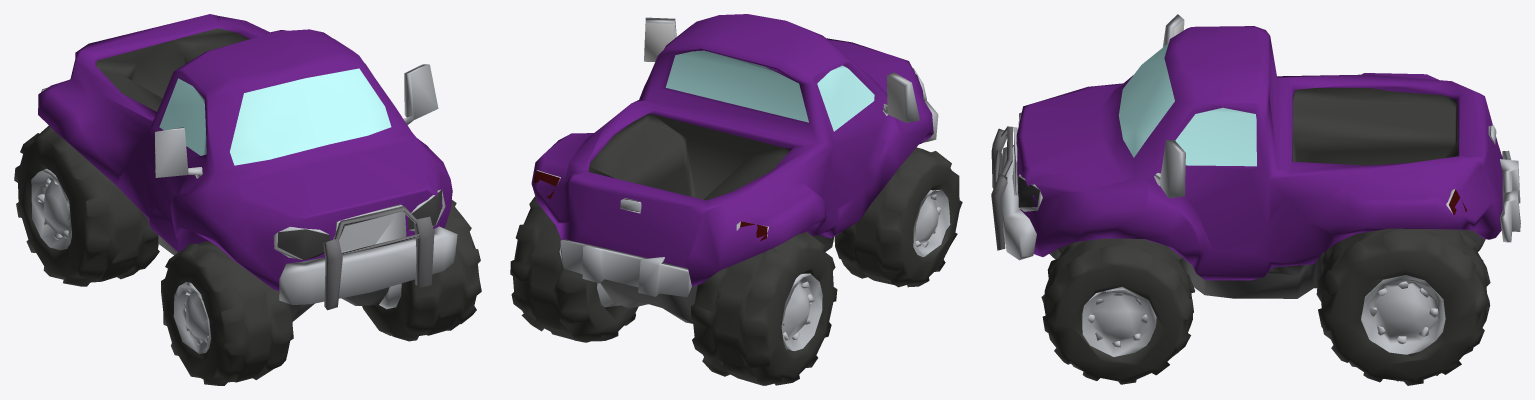
Rendered from pick_up_LOD01.fbx.
The picture shows the model from 3 angles, left to right: view 1: azimuth 30°, elevation 25°; view 2: azimuth 150°, elevation 25°; view 3: azimuth 270°, elevation 25°; orthographic projection. The views are drawn at different scales.
Parts seen in each view (by area): view 1: pick-up; view 2: pick-up; view 3: pick-up.
Boxes of the visible parts, x1=… form: pick-up: x1=14, y1=14, x2=481, y2=385; pick-up: x1=510, y1=14, x2=962, y2=385; pick-up: x1=991, y1=14, x2=1520, y2=385.
Size of the model in its own units: 300 by 271 by 469.
